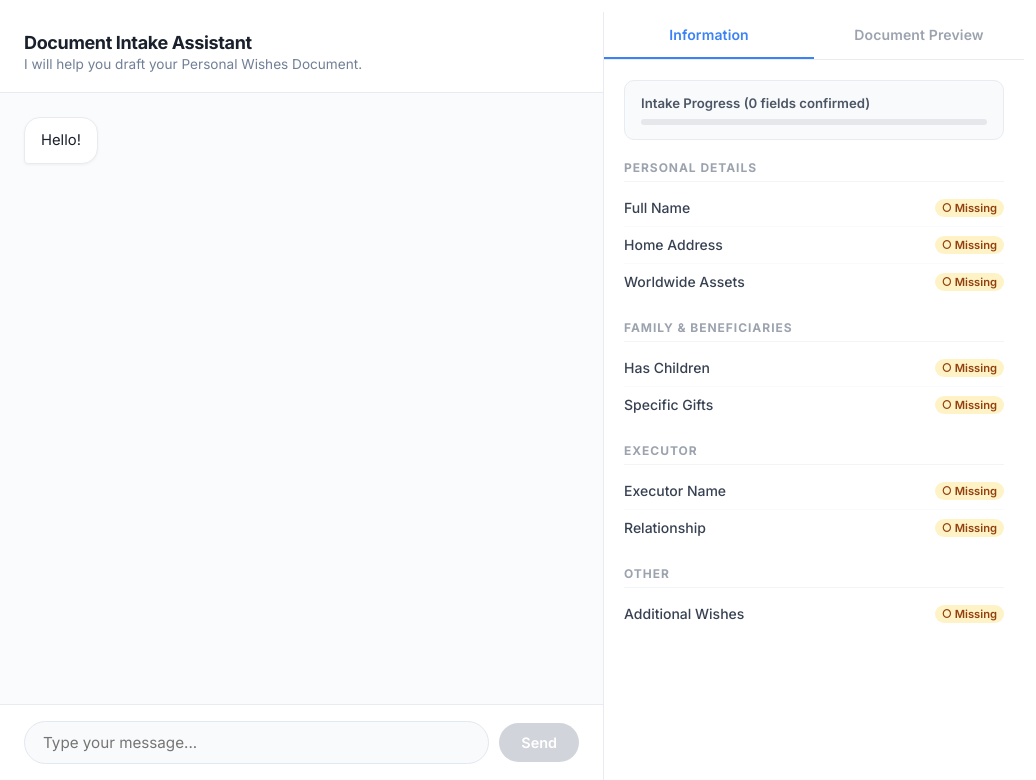
Test: App › handles sending a message
Expected: the text "Hello!" is shown, [24,117,98,164]
Type "My name is Alice" into the field with placeholder "Type your message..." at (257, 742), box [24,721,489,764]
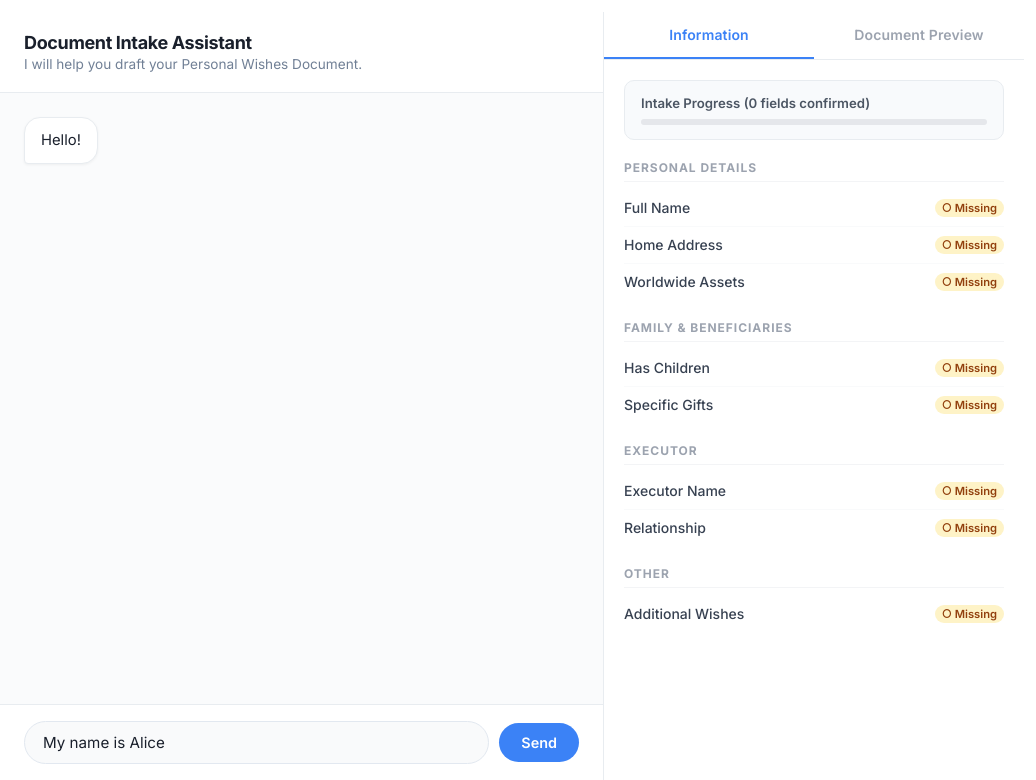
Click the button "Send" at (539, 742), box [499,723,579,762]
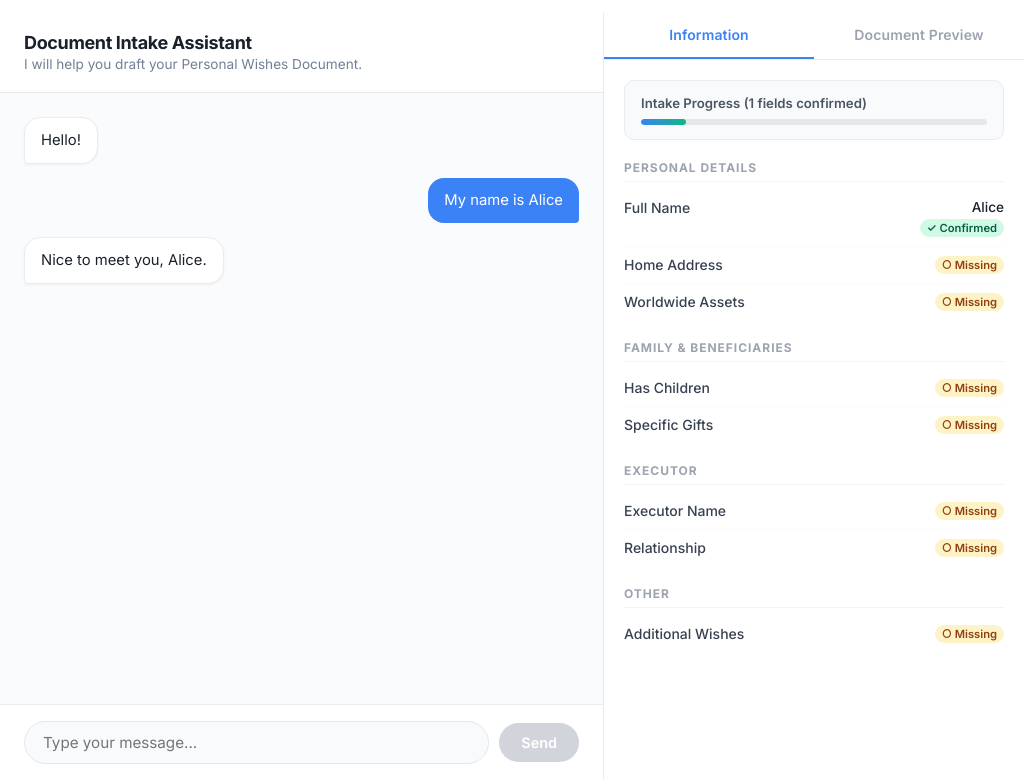
Expected: the text "My name is Alice" is shown, [428,178,579,223]
Expected: the text "Nice to meet you, Alice." is shown, [24,237,224,284]
